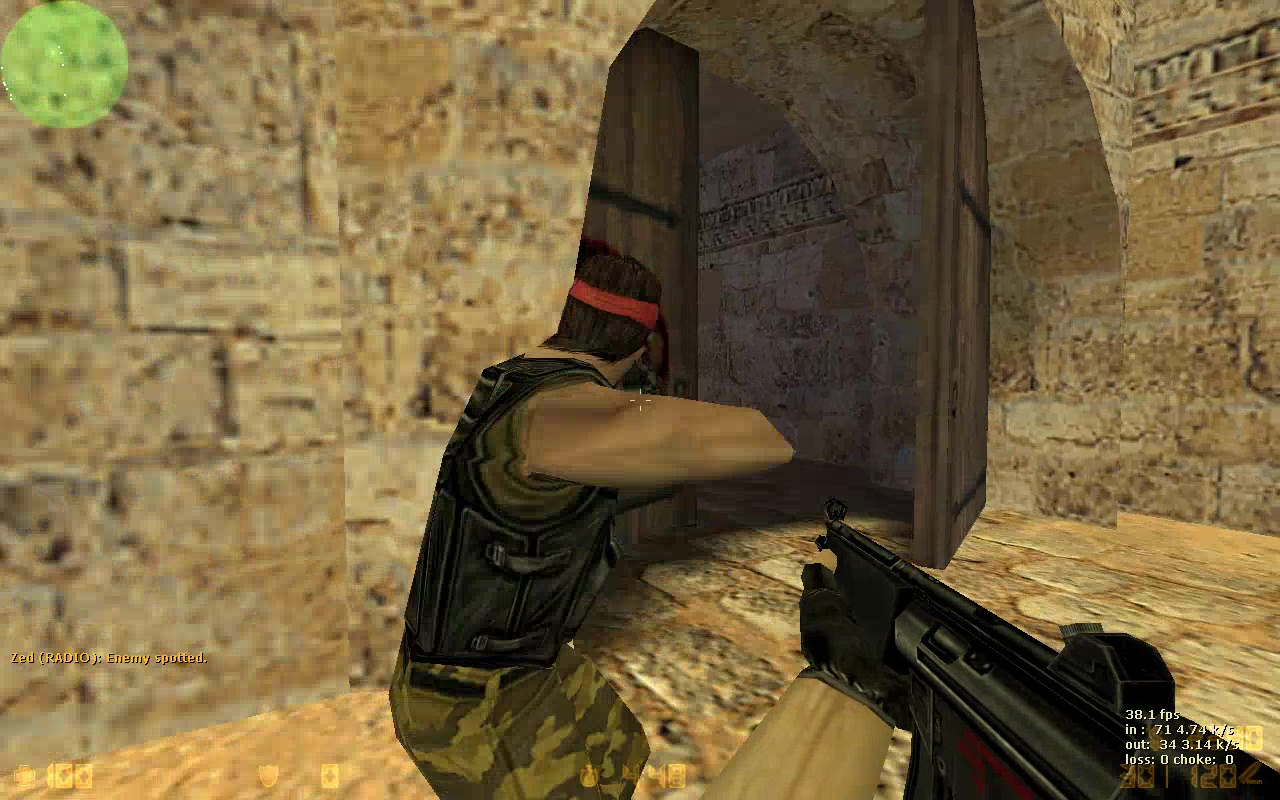terr1: (379, 249, 756, 787)
